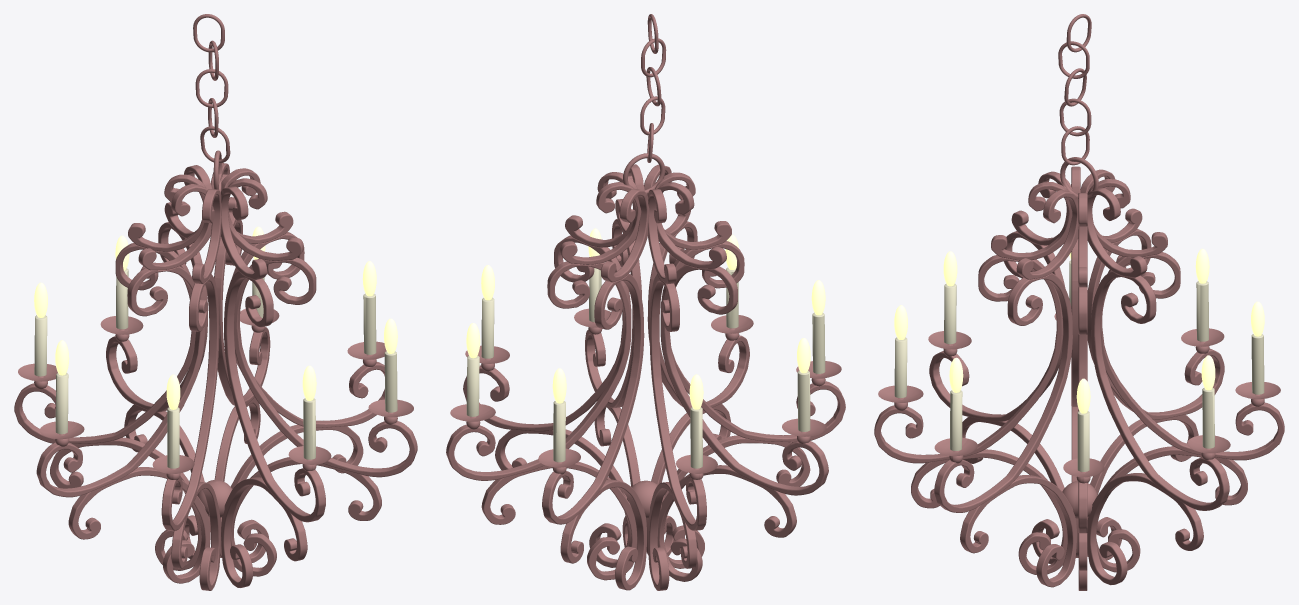
Rendered from chandelier.glb.
The picture shows the model from 3 angles, left to right: view 1: azimuth 30°, elevation 25°; view 2: azimuth 150°, elevation 25°; view 3: azimuth 270°, elevation 25°; orthographic projection.
Visible parts, largest first — view 1: 3DSMeshMatrix (×46), Object_24, Object_18, Object_27, Object_21; view 2: 3DSMeshMatrix (×44), Object_26, Object_20, Object_27, Object_21; view 3: 3DSMeshMatrix (×43), Object_27.
Boxes of the visible parts, x1,y1,x2,y2 form: 3DSMeshMatrix (×46): [14, 163, 417, 590]; Object_24: [224, 171, 384, 427]; Object_18: [237, 426, 363, 562]; Object_27: [221, 168, 384, 423]; Object_21: [231, 424, 357, 557]; 3DSMeshMatrix (×44): [446, 164, 845, 590]; Object_26: [463, 174, 635, 431]; Object_20: [495, 429, 629, 567]; Object_27: [479, 172, 637, 426]; Object_21: [501, 429, 626, 562]; 3DSMeshMatrix (×43): [874, 166, 1284, 587]; Object_27: [1079, 193, 1086, 533].
Size of the model in its own units: 467 by 696 by 467.
